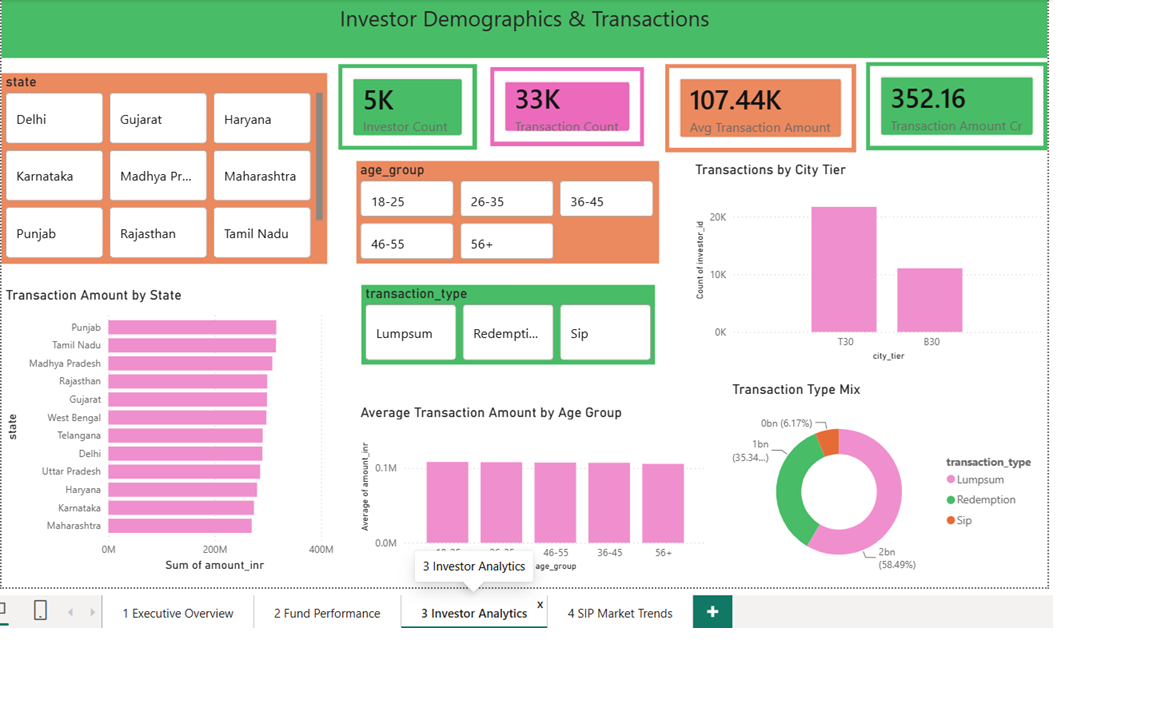

This screenshot's page, from the dashboard's own definition file:
{"tool":"powerbi","page":{"name":"3 Investor Analytics","canvas":[1280,720],"ordinal":2},"visuals":[{"type":"textbox","box":[0,0,1280,72],"z":0},{"type":"cardVisual","fields":{"Data":["Measures_Table.Investor Count"]},"box":[412.1,79.5,170,105.2],"z":1000},{"type":"cardVisual","fields":{"Data":["Measures_Table.Transaction Count"]},"box":[598,83.2,188.3,96.6],"z":2000},{"type":"cardVisual","fields":{"Data":["Measures_Table.Transaction Amount Cr"]},"box":[1057.8,77,222.6,107.6],"z":3000},{"type":"cardVisual","fields":{"Data":["Measures_Table.Avg Transaction Amount"]},"box":[812,79.5,233.6,107.6],"z":4000},{"type":"clusteredBarChart","title":"Transaction Amount by State","fields":{"Category":["fact_transactions.state"],"Y":["Sum(fact_transactions.amount_inr)"]},"box":[0,352.2,412.1,353.4],"z":5000},{"type":"donutChart","title":"Transaction Type Mix","fields":{"Category":["fact_transactions.transaction_type"],"Y":["Sum(fact_transactions.amount_inr)"]},"box":[889.3,466.7,390.7,253.3],"z":6000},{"type":"clusteredColumnChart","title":"Average Transaction Amount by Age Group","fields":{"Category":["fact_transactions.age_group"],"Y":["Avg(fact_transactions.amount_inr)"]},"box":[434.1,495.2,434.1,210.3],"z":7000},{"type":"clusteredColumnChart","title":"Transactions by City Tier","fields":{"Category":["fact_transactions.city_tier"],"Y":["CountNonNull(fact_transactions.investor_id)"]},"box":[844,198.7,436,249.3],"z":8000},{"type":"advancedSlicerVisual","fields":{"Values":["fact_transactions.state"]},"box":[0,90.7,398.7,233.3],"z":9000},{"type":"advancedSlicerVisual","fields":{"Values":["fact_transactions.age_group"]},"box":[434.1,198.1,370.5,126],"z":10000},{"type":"advancedSlicerVisual","fields":{"Values":["fact_transactions.transaction_type"]},"box":[440.2,349.7,359.5,97.8],"z":11000}]}

Visuals, with their boxes on the page's 1280x720 design canvas (x1, y1, x2, y2). These are canvas units, not pixel positions in the 1167x714 screenshot, which may show the page scaled, cropped or inside an application window:
textbox: (x1=0, y1=0, x2=1280, y2=72)
cardVisual - Measures_Table.Investor Count: (x1=412, y1=80, x2=582, y2=185)
cardVisual - Measures_Table.Transaction Count: (x1=598, y1=83, x2=786, y2=180)
cardVisual - Measures_Table.Transaction Amount Cr: (x1=1058, y1=77, x2=1280, y2=185)
cardVisual - Measures_Table.Avg Transaction Amount: (x1=812, y1=80, x2=1046, y2=187)
"Transaction Amount by State" clusteredBarChart: (x1=0, y1=352, x2=412, y2=706)
"Transaction Type Mix" donutChart: (x1=889, y1=467, x2=1280, y2=720)
"Average Transaction Amount by Age Group" clusteredColumnChart: (x1=434, y1=495, x2=868, y2=706)
"Transactions by City Tier" clusteredColumnChart: (x1=844, y1=199, x2=1280, y2=448)
advancedSlicerVisual - fact_transactions.state: (x1=0, y1=91, x2=399, y2=324)
advancedSlicerVisual - fact_transactions.age_group: (x1=434, y1=198, x2=805, y2=324)
advancedSlicerVisual - fact_transactions.transaction_type: (x1=440, y1=350, x2=800, y2=448)
